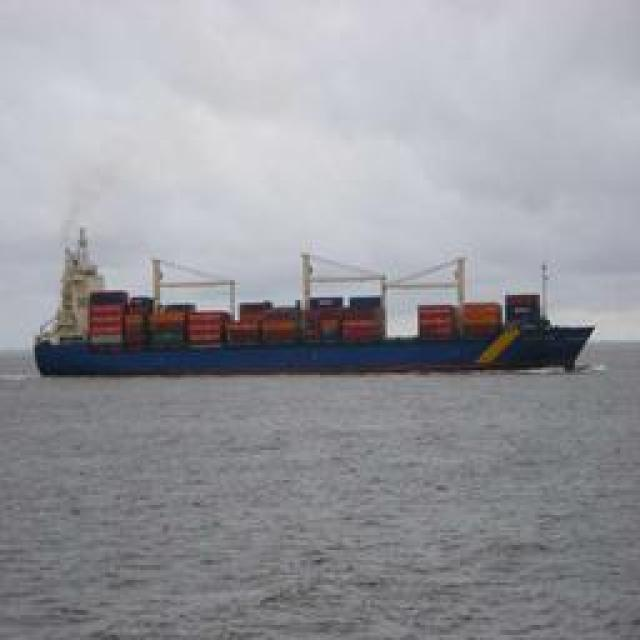CIV_Ship: (31, 234, 606, 384)
